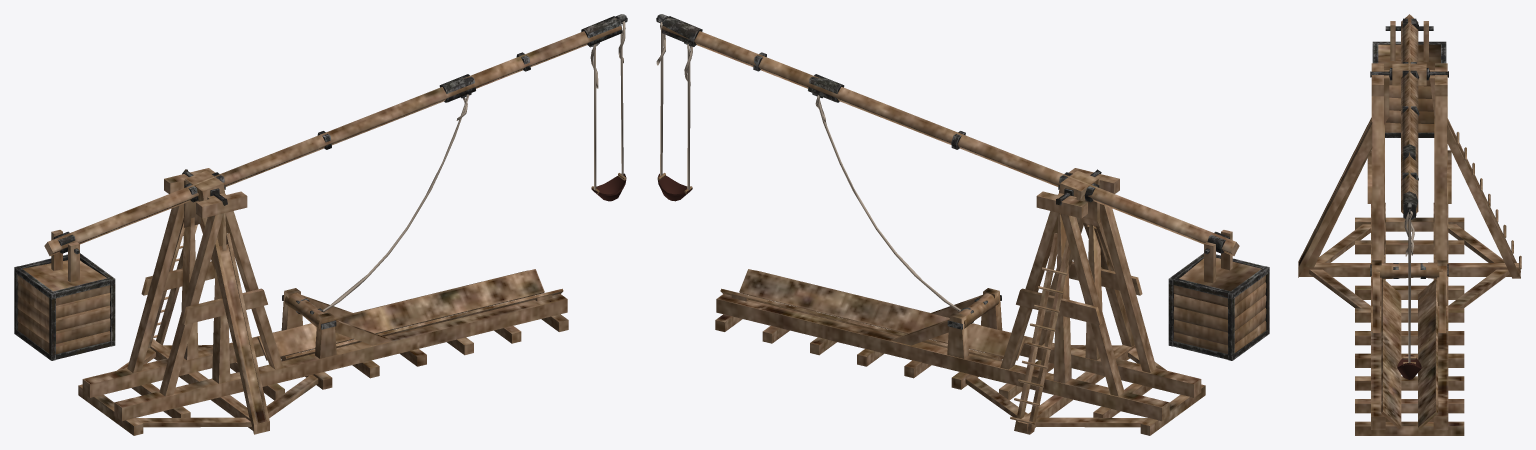
Rendered from trebuchet.lod1.glb.
3 views of the same model, side by side, from view 1: azimuth 30°, elevation 25°; view 2: azimuth 150°, elevation 25°; view 3: azimuth 270°, elevation 25° (orthographic).
Parts seen in each view (by area): view 1: WoodenFrame_WoodenFrame_0, IronFittings_Iron_0, Ropes_Ropes_0; view 2: WoodenFrame_WoodenFrame_0, IronFittings_Iron_0, Ropes_Ropes_0; view 3: WoodenFrame_WoodenFrame_0, IronFittings_Iron_0, Ropes_Ropes_0.
Part boxes in pixels (x1=…): WoodenFrame_WoodenFrame_0: x1=17, y1=18, x2=626, y2=435; IronFittings_Iron_0: x1=14, y1=14, x2=627, y2=360; Ropes_Ropes_0: x1=323, y1=21, x2=626, y2=311; WoodenFrame_WoodenFrame_0: x1=657, y1=18, x2=1266, y2=435; IronFittings_Iron_0: x1=656, y1=14, x2=1269, y2=360; Ropes_Ropes_0: x1=656, y1=21, x2=960, y2=311; WoodenFrame_WoodenFrame_0: x1=1298, y1=14, x2=1521, y2=435; IronFittings_Iron_0: x1=1370, y1=18, x2=1448, y2=278; Ropes_Ropes_0: x1=1397, y1=211, x2=1421, y2=379.
Size of the model in its own units: 24.8 by 11 by 8.21.
3 materials, 2 textured.
